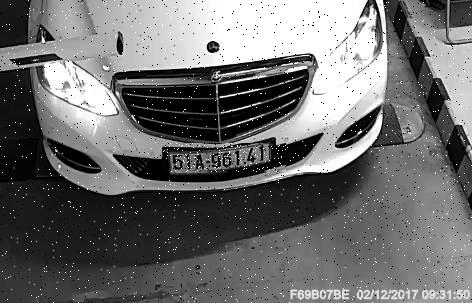License-plate: (163, 145, 287, 174)
